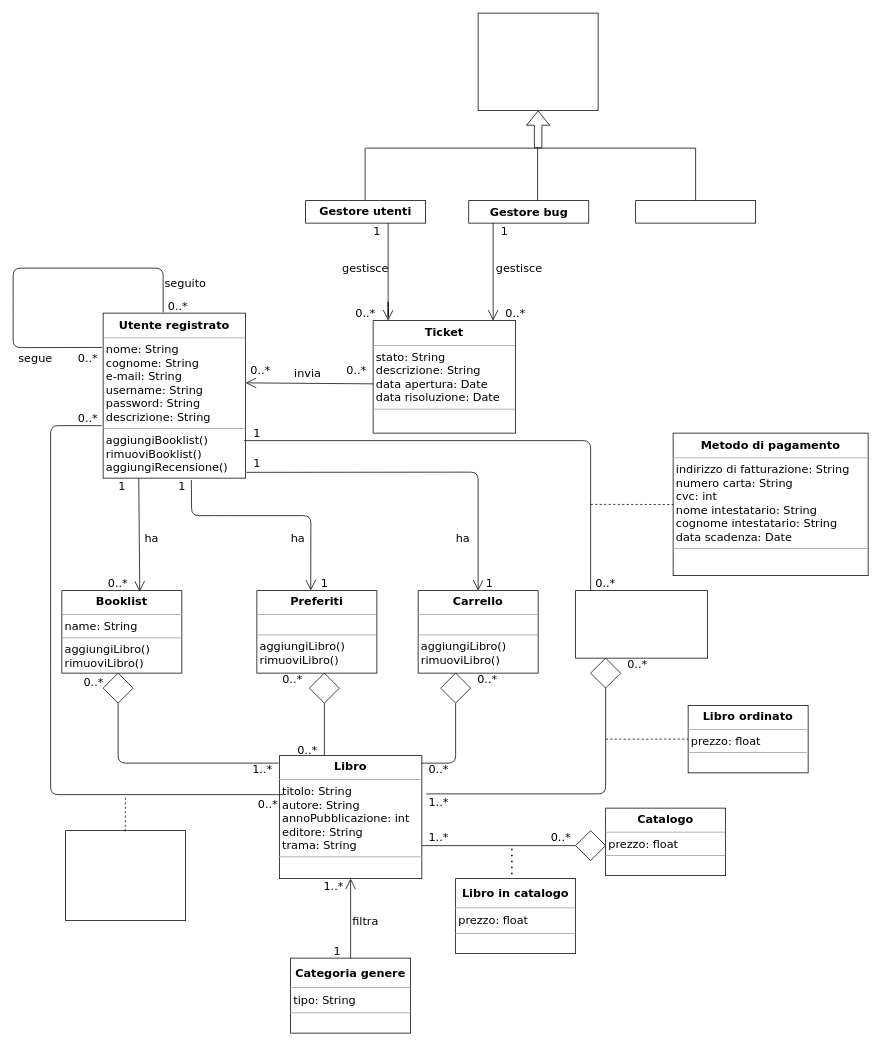
Some shapes in this 881 by 1046 pixel diagram are drawn without their labels. Each missing label, with the centre of its shape:
"Admin username: String password: String tipo: String" goes at (x=537, y=61).
"Gestore libri" goes at (x=695, y=211).
"Ordine data: Date" goes at (x=641, y=624).
"Recensione testo: String voto: float" goes at (x=125, y=875).
